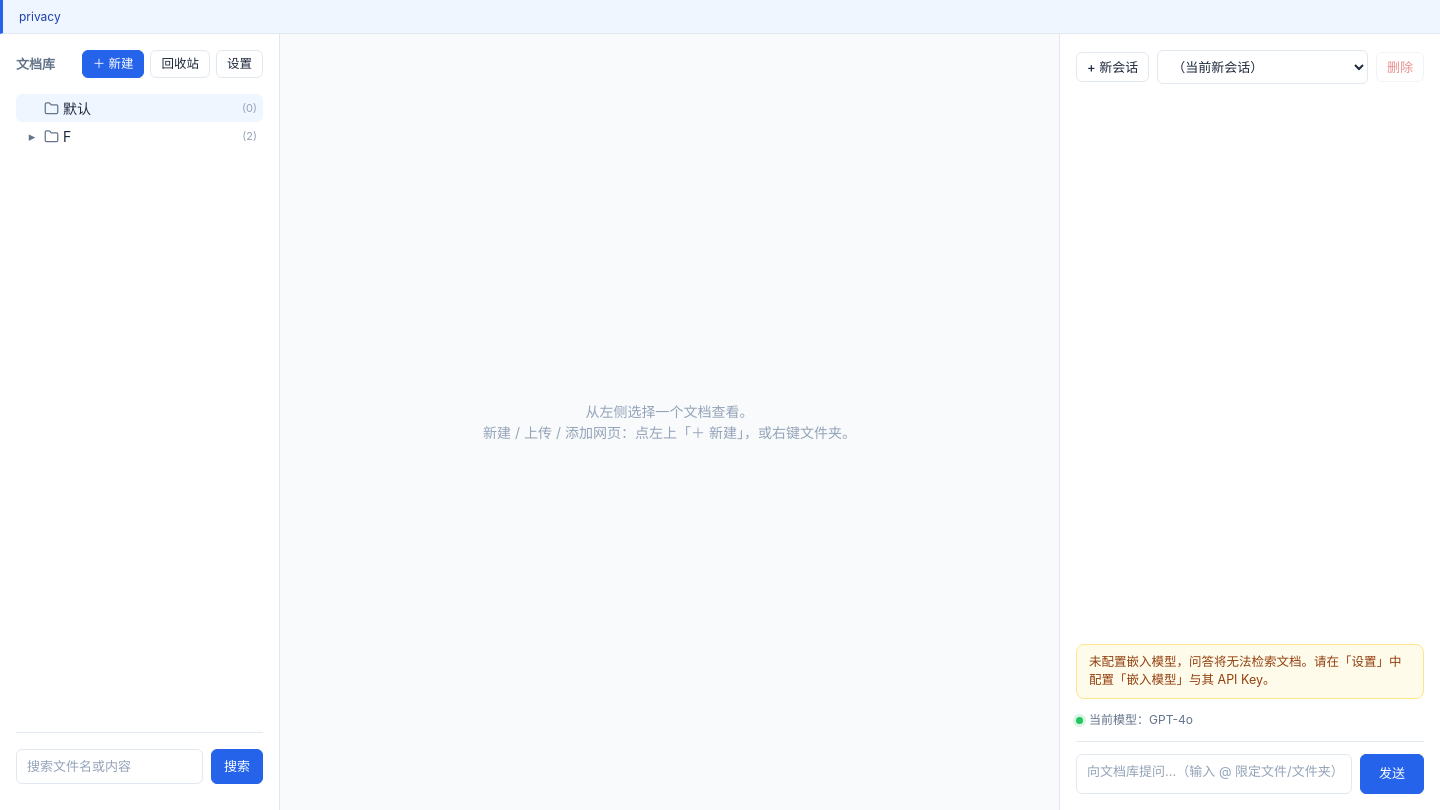
Test: App › asks a question and renders the streamed answer
Check: the element with test id "pane-chat" is shown, box [1060,34,1439,809]
Type "q" into the text box with placeholder "向文档库提问…（输入 @ 限定文件/文件夹）" at (1214, 774), box [1076,754,1352,794]
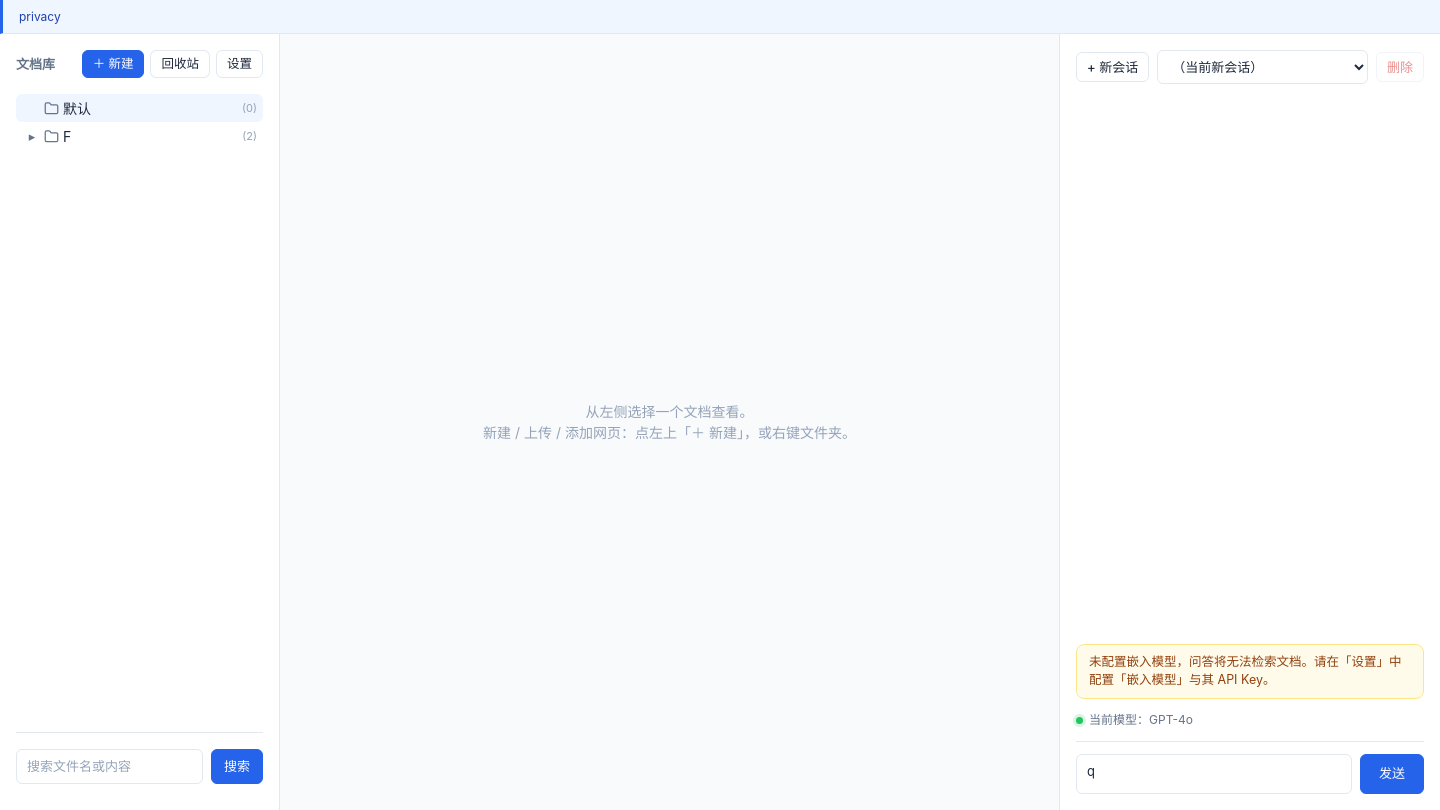
Click the button "发送" at (1392, 774), box [1360,754,1424,794]
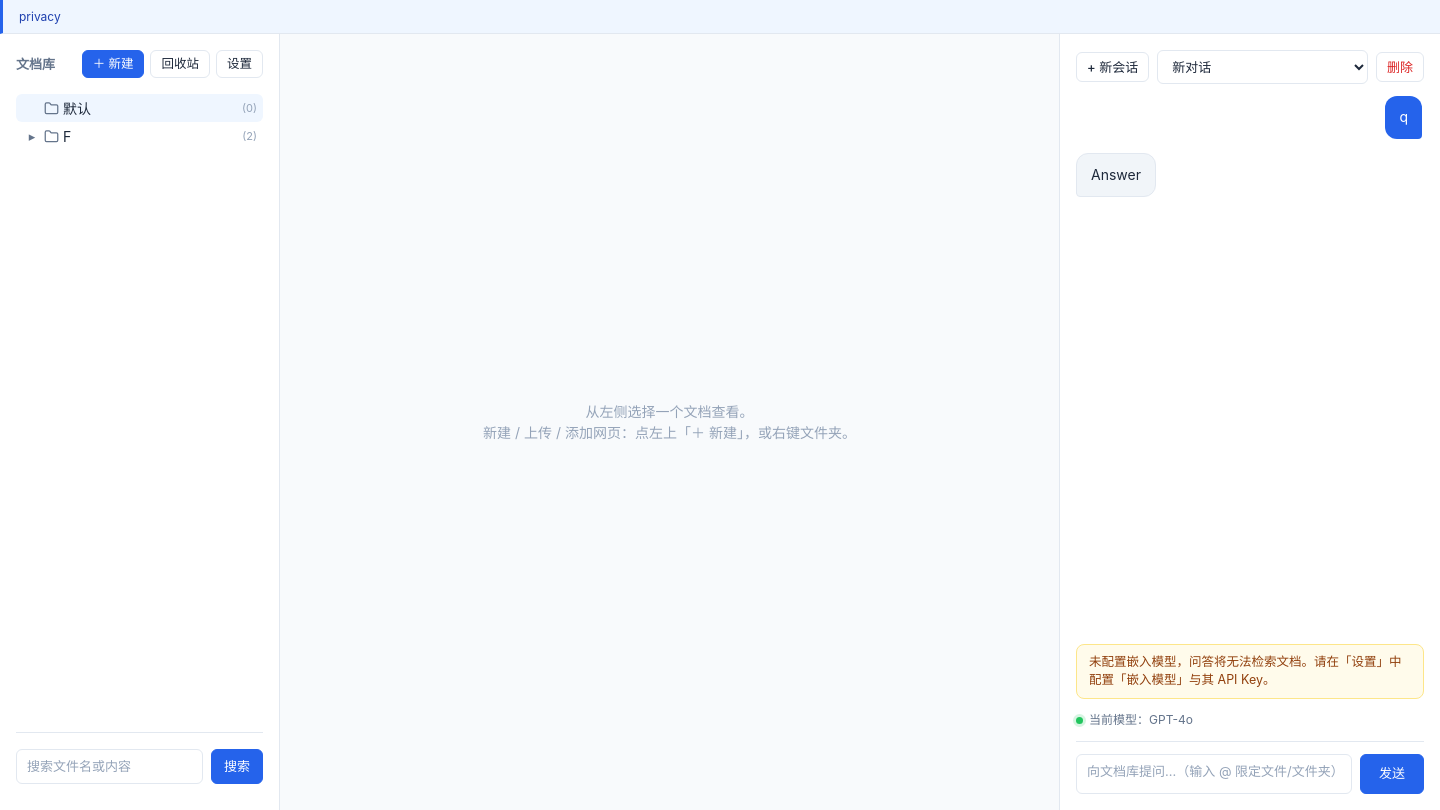
Check: the text "Answer" is shown, box [1091,164,1141,186]
